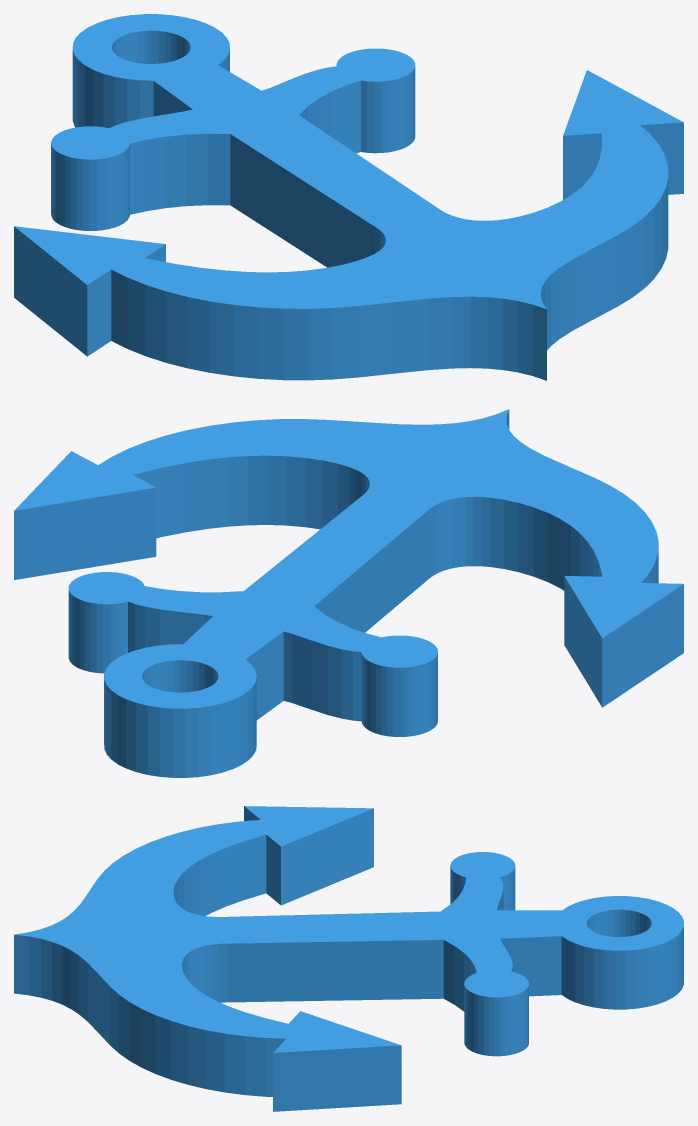
Rendered from ancre.fbx.
3 views of the same model, one above another, from view 1: azimuth 30°, elevation 25°; view 2: azimuth 150°, elevation 25°; view 3: azimuth 270°, elevation 25° (orthographic). The views are drawn at different scales.
Parts seen in each view (by area): view 1: ancre; view 2: ancre; view 3: ancre.
Part boxes in pixels (x1=…): ancre: x1=14, y1=14, x2=683, y2=380; ancre: x1=14, y1=409, x2=683, y2=777; ancre: x1=14, y1=806, x2=683, y2=1111.
Bounding box in the file's own units: 899 × 100 × 1032.
